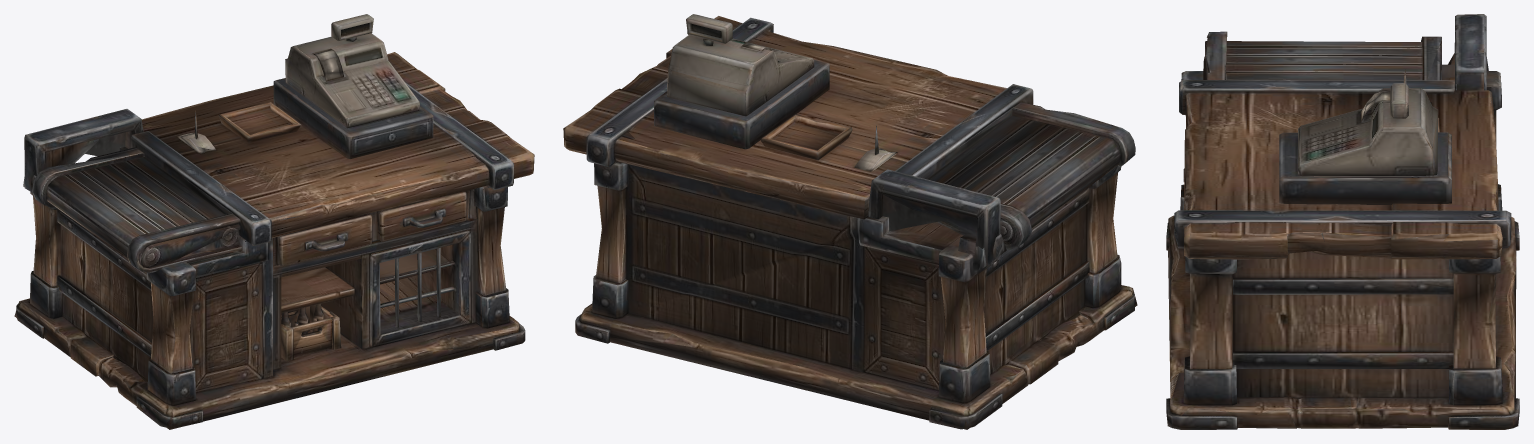
The model's file is counter.glb.
3 views of the same model, side by side, from view 1: azimuth 30°, elevation 25°; view 2: azimuth 150°, elevation 25°; view 3: azimuth 270°, elevation 25° (orthographic). The views are drawn at different scales.
Visible parts, largest first — view 1: counter; view 2: counter; view 3: counter.
Part boxes in pixels (box(x1,y1,x2,y2)): counter: box(14, 14, 534, 429); counter: box(563, 14, 1137, 429); counter: box(1166, 14, 1519, 429).
Bounding box in the file's own units: 1.04 × 0.67 × 0.7226.
1 material, 1 textured.
